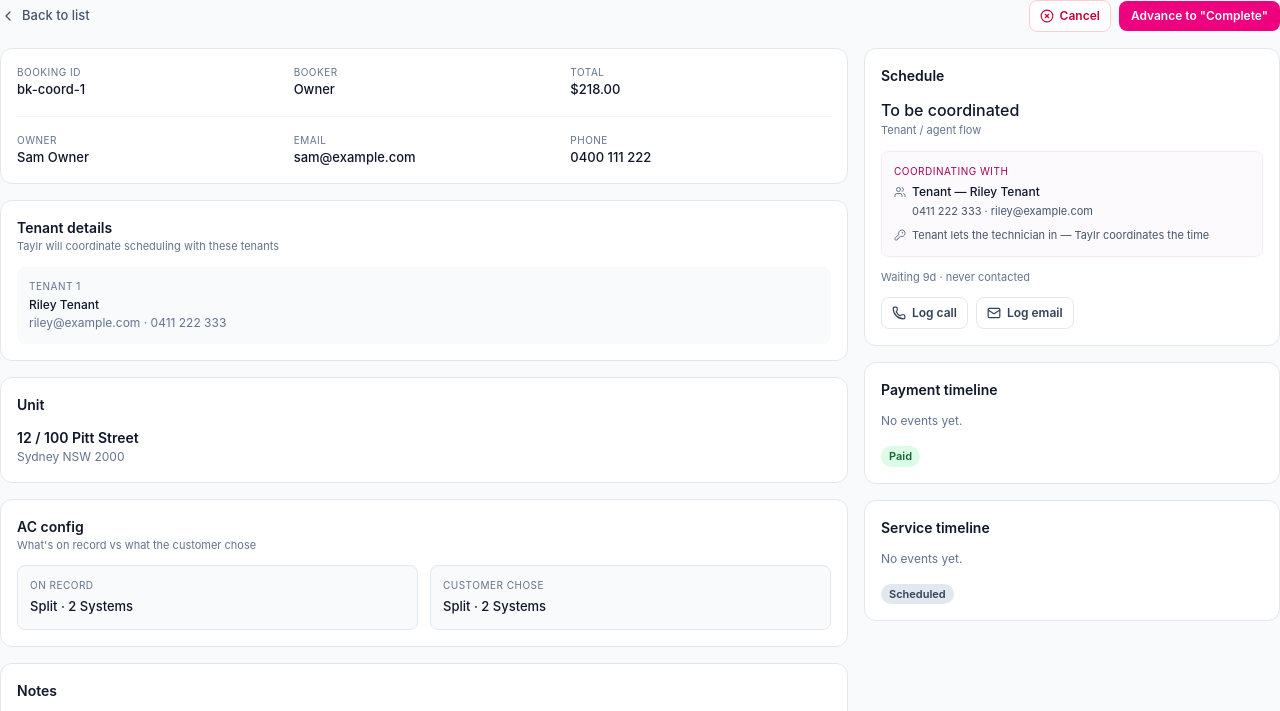
BookingDetail · log call / log email › Log email form opens with the template dropdown on Custom… so inputs start empty
Click the button with test id "button-log-email".
click(1025, 313)  # box x1=976 y1=297 x2=1074 y2=329
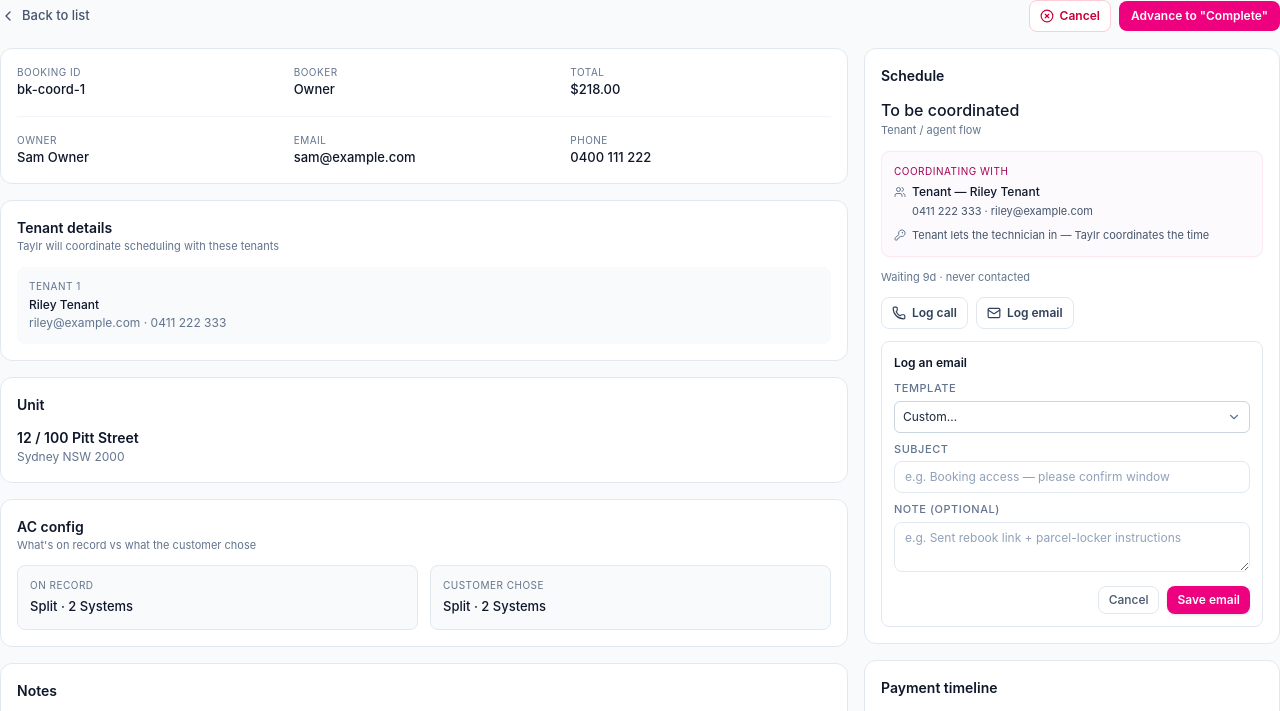
Check: the label with test id "select-email-template" holds "custom", box x1=894 y1=381 x2=956 y2=395
Check: the field with test id "input-email-subject" is empty, box x1=894 y1=461 x2=1250 y2=493
Check: the text box with test id "input-email-note" is empty, box x1=894 y1=522 x2=1250 y2=572
